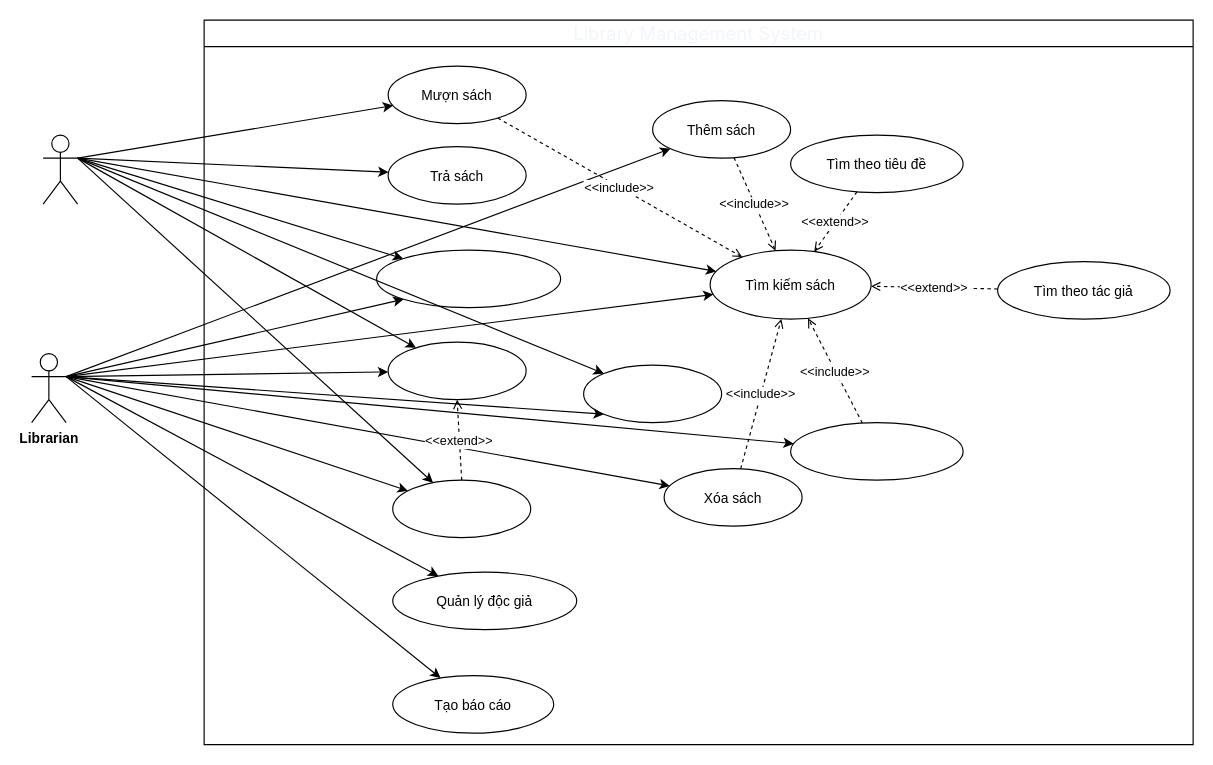
Some shapes in this 1213 by 765 pixel diagram are drawn without their labels. The box of each missing label's shape, as (x1, y1, x2, y2) in pixels:
Cập nhật sách: (789, 421, 963, 480)
Reader: (42, 134, 78, 204)
Xem lịch sử mượn trả: (375, 249, 561, 308)
Đăng ký: (392, 479, 531, 538)
Đăng nhập: (387, 341, 526, 400)
Đăng xuất: (582, 364, 722, 423)
